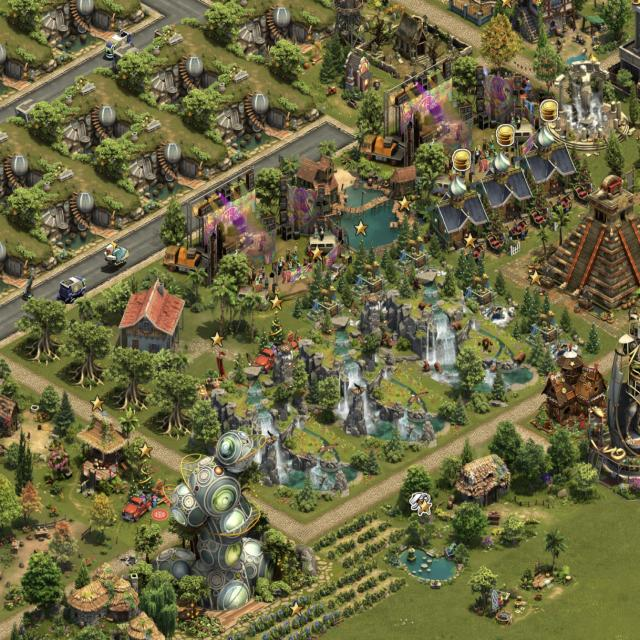coin: (494, 122, 519, 148), (538, 98, 560, 123), (451, 149, 474, 172)
star: (398, 193, 414, 216), (353, 219, 371, 239), (528, 267, 546, 286), (90, 394, 107, 414), (463, 231, 480, 251), (140, 441, 156, 461), (310, 244, 326, 263), (269, 295, 285, 313), (212, 331, 226, 349)
toolWstar: (408, 491, 438, 518)
